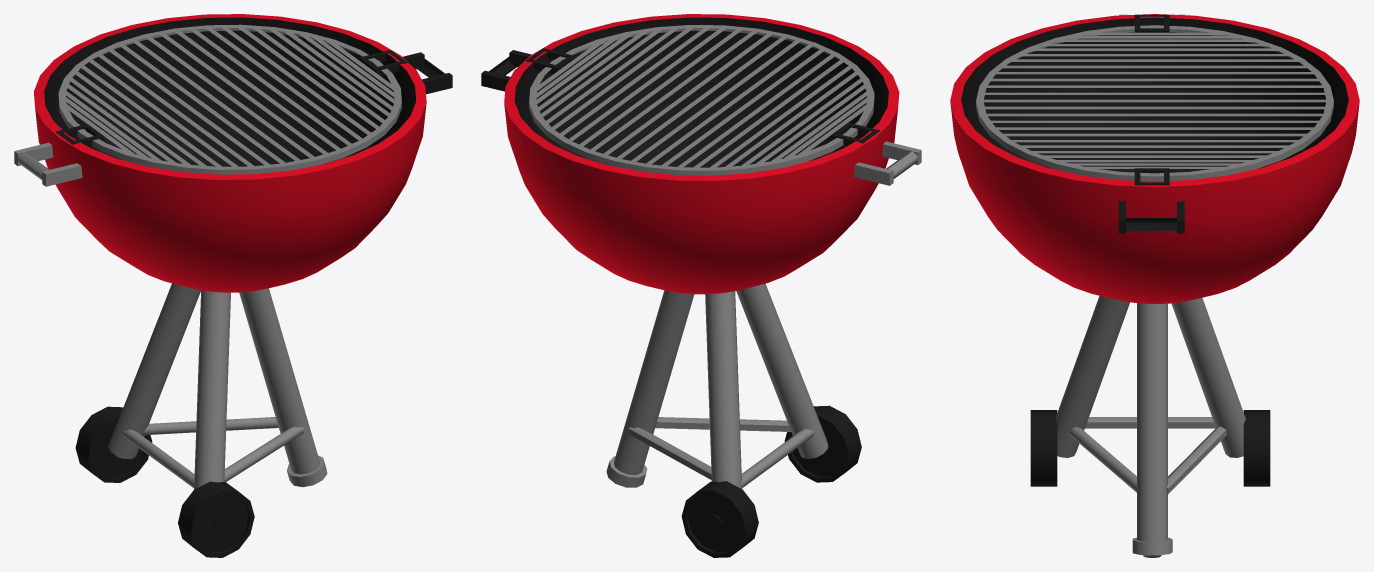
File: mangal.fbx
3 renders of one model, left to right at view 1: azimuth 30°, elevation 25°; view 2: azimuth 150°, elevation 25°; view 3: azimuth 270°, elevation 25°, orthographic. The views are drawn at different scales.
Parts seen in each view (by area): view 1: Sphere, Sphere.001, Cylinder.007, Cylinder.004, Cylinder.006, Cylinder.005, Cube.001, Cylinder.011, Cube.003, Cylinder.010, Cylinder.009, Cube.002; view 2: Sphere, Sphere.001, Cylinder.007, Cylinder.004, Cylinder.005, Cylinder.006, Cube.001, Cylinder.010, Cube.003, Cylinder.011, Cylinder.009, Cube.002; view 3: Sphere, Sphere.001, Cylinder.004, Cylinder.006, Cylinder.005, Cylinder.007, Cube.002, Cylinder.009, Cylinder.010, Cylinder.011, Cube.003.
Boxes of the visible parts, left/top/right/bottom form: Sphere: left=34, top=14, right=426, bottom=292; Sphere.001: left=58, top=24, right=401, bottom=174; Cylinder.007: left=75, top=406, right=254, bottom=557; Cylinder.004: left=239, top=288, right=327, bottom=487; Cylinder.006: left=194, top=290, right=230, bottom=489; Cylinder.005: left=108, top=283, right=200, bottom=458; Cube.001: left=14, top=142, right=82, bottom=186; Cylinder.011: left=142, top=417, right=278, bottom=435; Cube.003: left=56, top=50, right=407, bottom=146; Cylinder.010: left=224, top=426, right=303, bottom=482; Cylinder.009: left=122, top=429, right=194, bottom=487; Cube.002: left=402, top=52, right=452, bottom=94; Sphere: left=504, top=14, right=899, bottom=294; Sphere.001: left=529, top=25, right=874, bottom=175; Cylinder.007: left=681, top=405, right=861, bottom=557; Cylinder.004: left=606, top=290, right=694, bottom=487; Cylinder.005: left=705, top=291, right=742, bottom=488; Cylinder.006: left=736, top=283, right=828, bottom=458; Cube.001: left=853, top=141, right=921, bottom=185; Cylinder.010: left=655, top=417, right=791, bottom=431; Cube.003: left=526, top=48, right=879, bottom=145; Cylinder.011: left=628, top=427, right=711, bottom=479; Cylinder.009: left=741, top=429, right=813, bottom=487; Cube.002: left=481, top=50, right=531, bottom=91; Sphere: left=950, top=14, right=1359, bottom=304; Sphere.001: left=976, top=25, right=1333, bottom=181; Cylinder.004: left=1132, top=303, right=1172, bottom=557; Cylinder.006: left=1056, top=296, right=1129, bottom=457; Cylinder.005: left=1171, top=298, right=1245, bottom=457; Cylinder.007: left=1030, top=410, right=1270, bottom=486; Cube.002: left=1118, top=201, right=1184, bottom=233; Cylinder.009: left=1085, top=417, right=1215, bottom=428; Cylinder.010: left=1069, top=426, right=1138, bottom=492; Cylinder.011: left=1166, top=426, right=1226, bottom=494; Cube.003: left=1134, top=14, right=1169, bottom=185.
Size of the model in its own units: 45.39 by 43.04 by 38.07.
